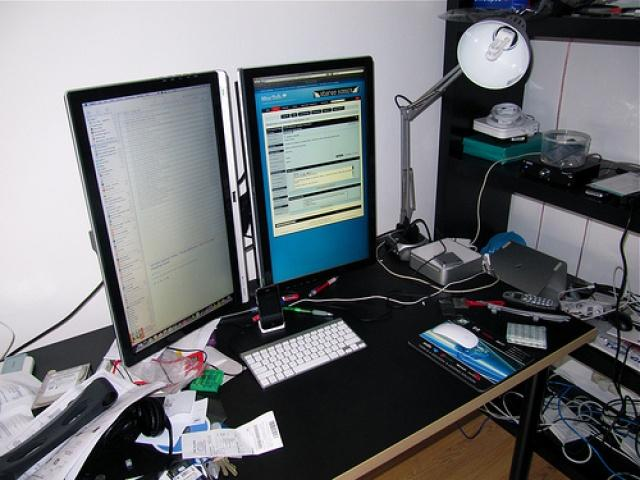AIO PC-Monitor-TV: (61, 68, 250, 369), (235, 54, 379, 295)
Meja: (0, 228, 598, 479)
